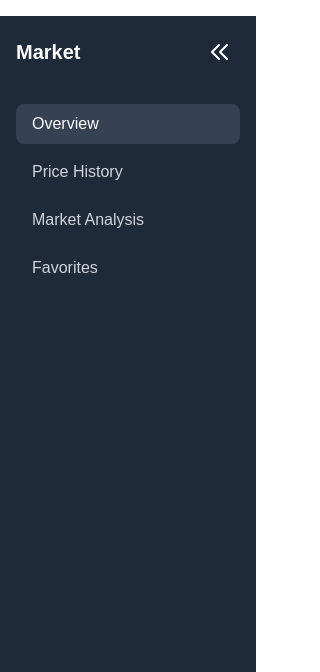
Sidenav › toggles the sidenav open and closed
Click the button.
click(220, 52)  # box [200,32,240,72]
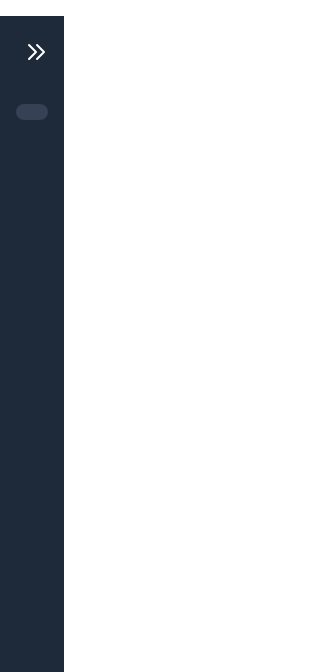
Check: the heading "Market" is gone
Click the button.
click(36, 52)  # box [16,32,56,72]
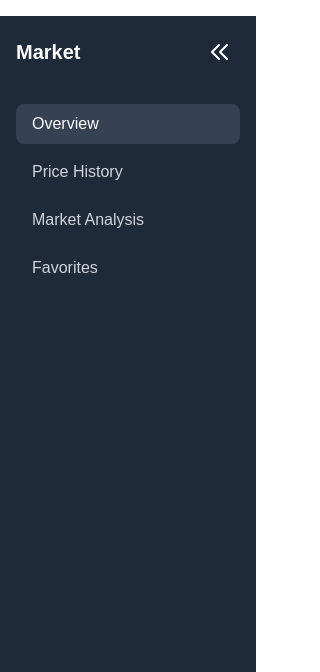
Check: the heading "Market" is shown, box [16,38,80,66]
